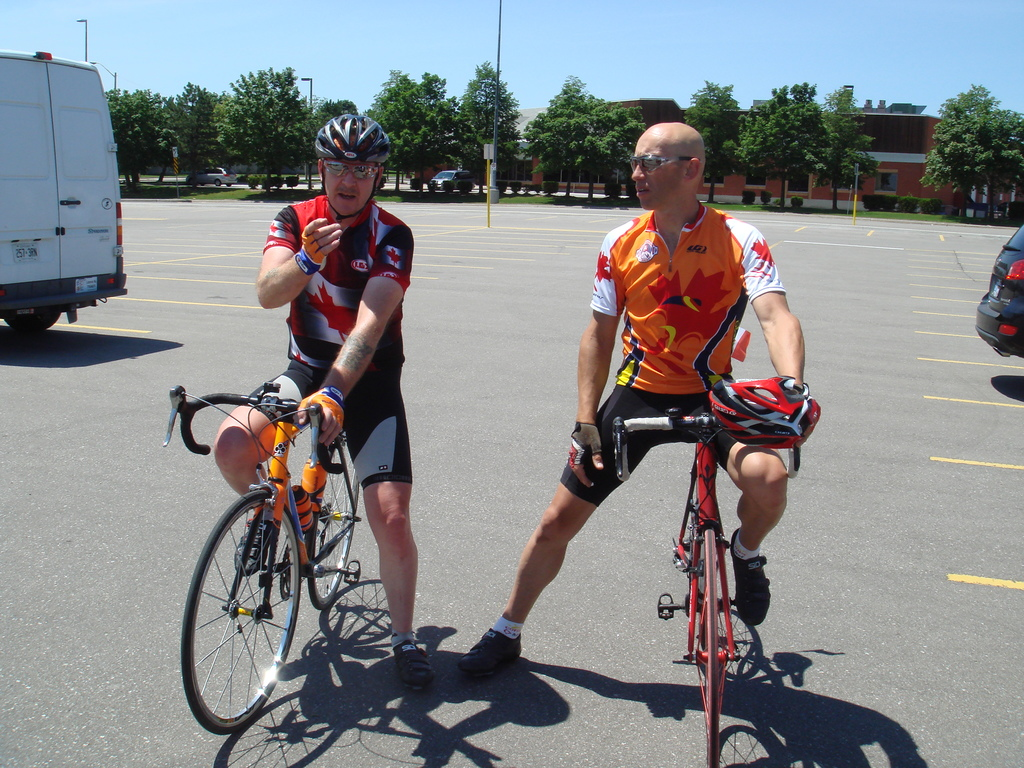Footwear: (732, 523, 778, 634), (452, 625, 527, 685), (229, 508, 284, 582), (387, 630, 435, 694)
